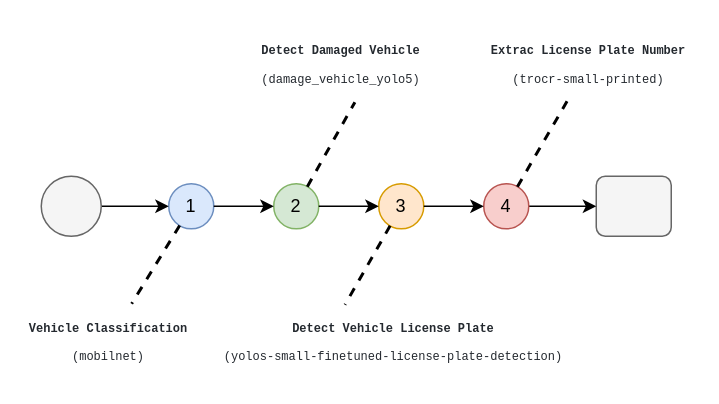
The diagram is 719 pixels wide and 404 high, and some of its shapes have lost their labels. The shapes that lost their labels are listed below. From the top down, each one's centre as x and y in pixels, then its label:
At [70,205]: "Data Source".
At [633,205]: "Sink".
